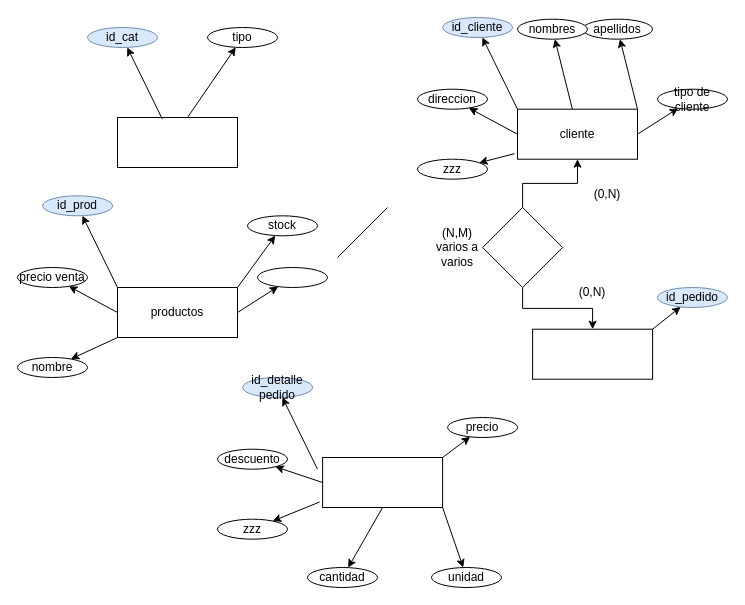
Some shapes in this 745 by 605 pixel diagram are drawn without their labels. Here are the shapes that lost their labels. From the top down, the box of each, then its label:
(116, 116, 238, 168): Categorias
(482, 206, 563, 288): realizar pedido
(256, 266, 328, 288): precio compra
(532, 328, 653, 379): pedido
(322, 456, 443, 508): detalle_pedido
